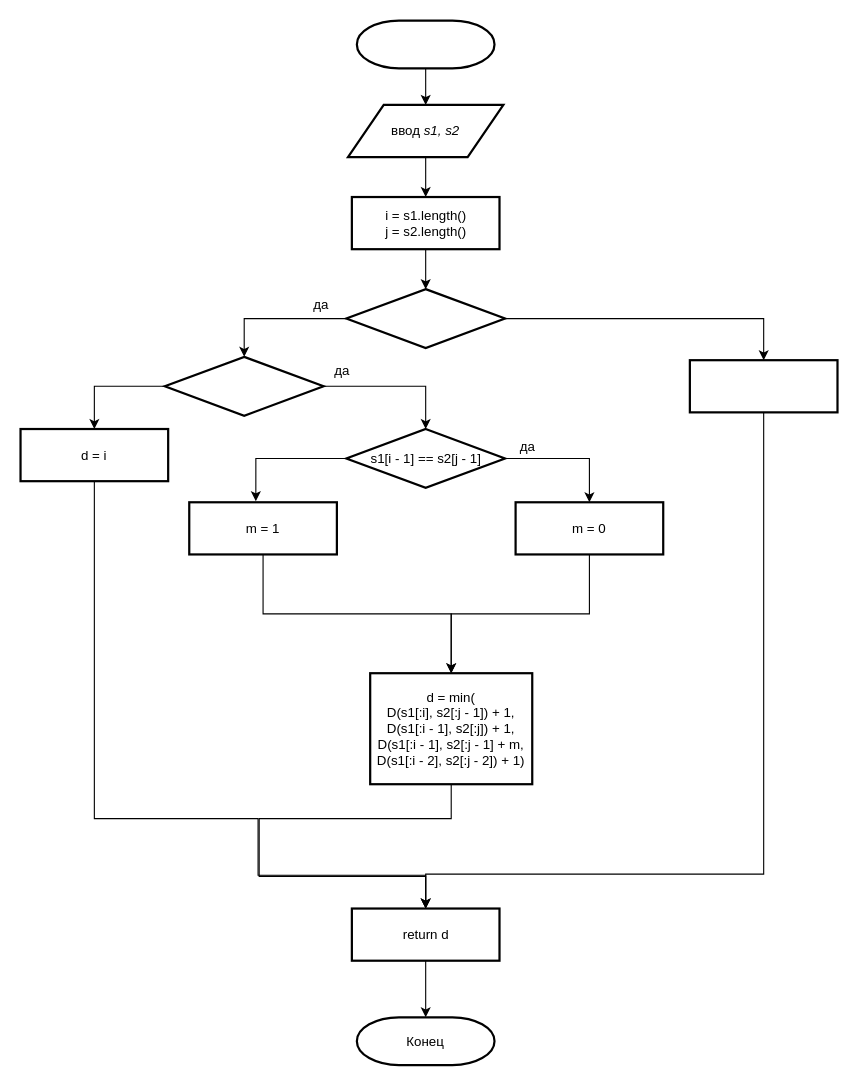
This 857x1084 diagram has some shape labels left out. Each missing label, with the centre of its shape:
"d = j" goes at point 763,386.
"i == 0" goes at point 425,318.
"j == 0" goes at point 243,385.
"Начало [D]" goes at point 425,44.
